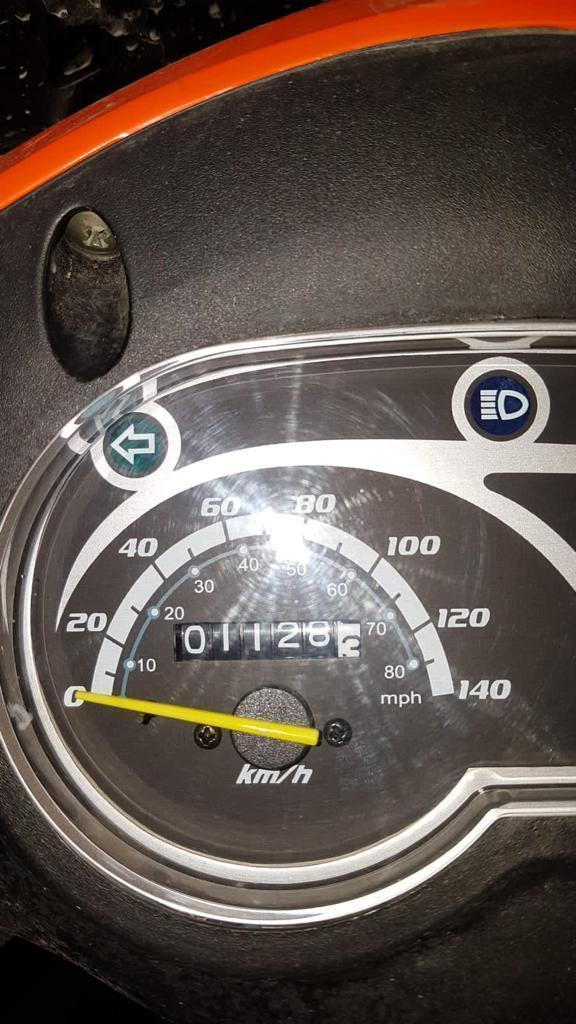0: (184, 624, 208, 654)
1: (249, 621, 262, 655), (218, 621, 231, 653)
2: (275, 619, 302, 652)
3: (338, 631, 361, 659)
8: (307, 619, 332, 647)
odometer: (171, 616, 365, 663)
